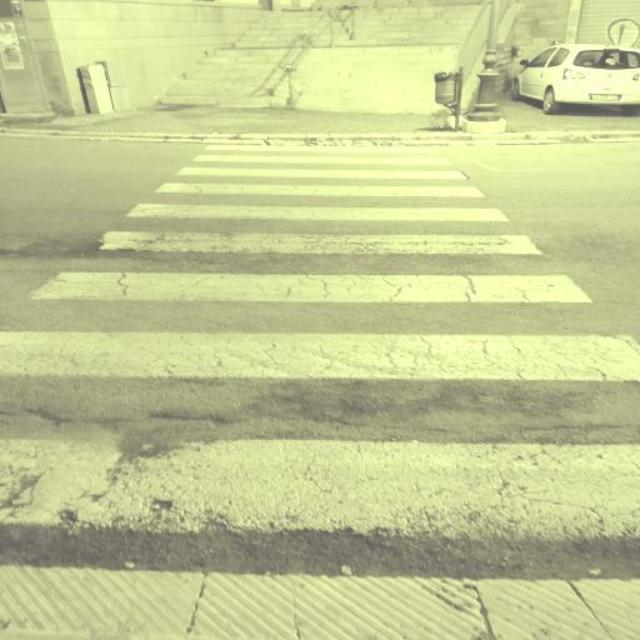sidewalk: (0, 145, 639, 532)
